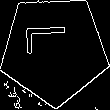L_E: (29, 33, 79, 67)
